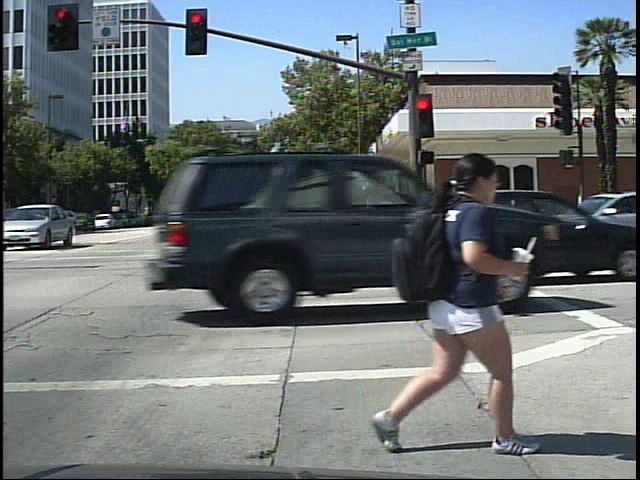person: (361, 130, 540, 458)
